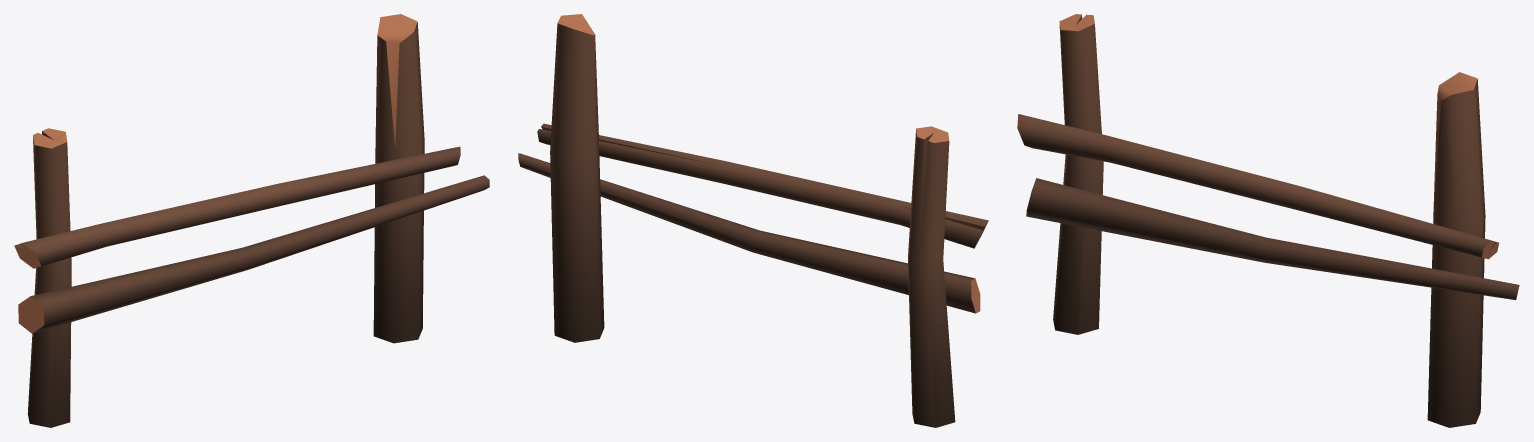
The model's file is Fence_2B.fbx.
3 renders of one model, left to right at view 1: azimuth 30°, elevation 25°; view 2: azimuth 150°, elevation 25°; view 3: azimuth 330°, elevation 25°, orthographic. The views are drawn at different scales.
Visible parts, largest first — view 1: Fence_2B; view 2: Fence_2B; view 3: Fence_2B.
Part boxes in pixels (x1=…): Fence_2B: x1=14, y1=14, x2=489, y2=427; Fence_2B: x1=518, y1=14, x2=988, y2=427; Fence_2B: x1=1017, y1=14, x2=1519, y2=427.
Bounding box in the file's own units: 212 × 134 × 27.04.
